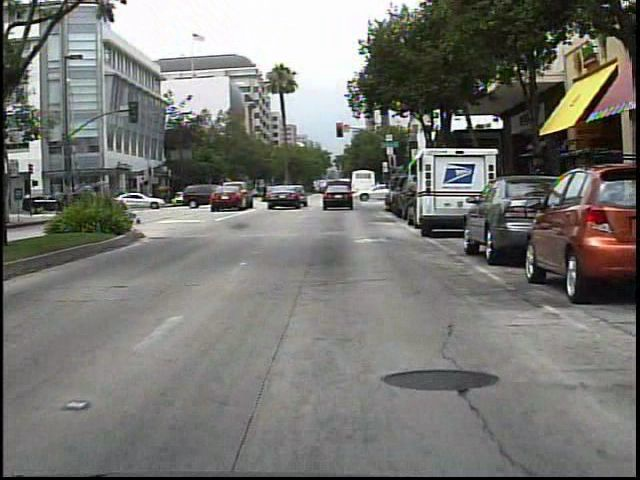person: (521, 149, 552, 236), (265, 182, 266, 206)
